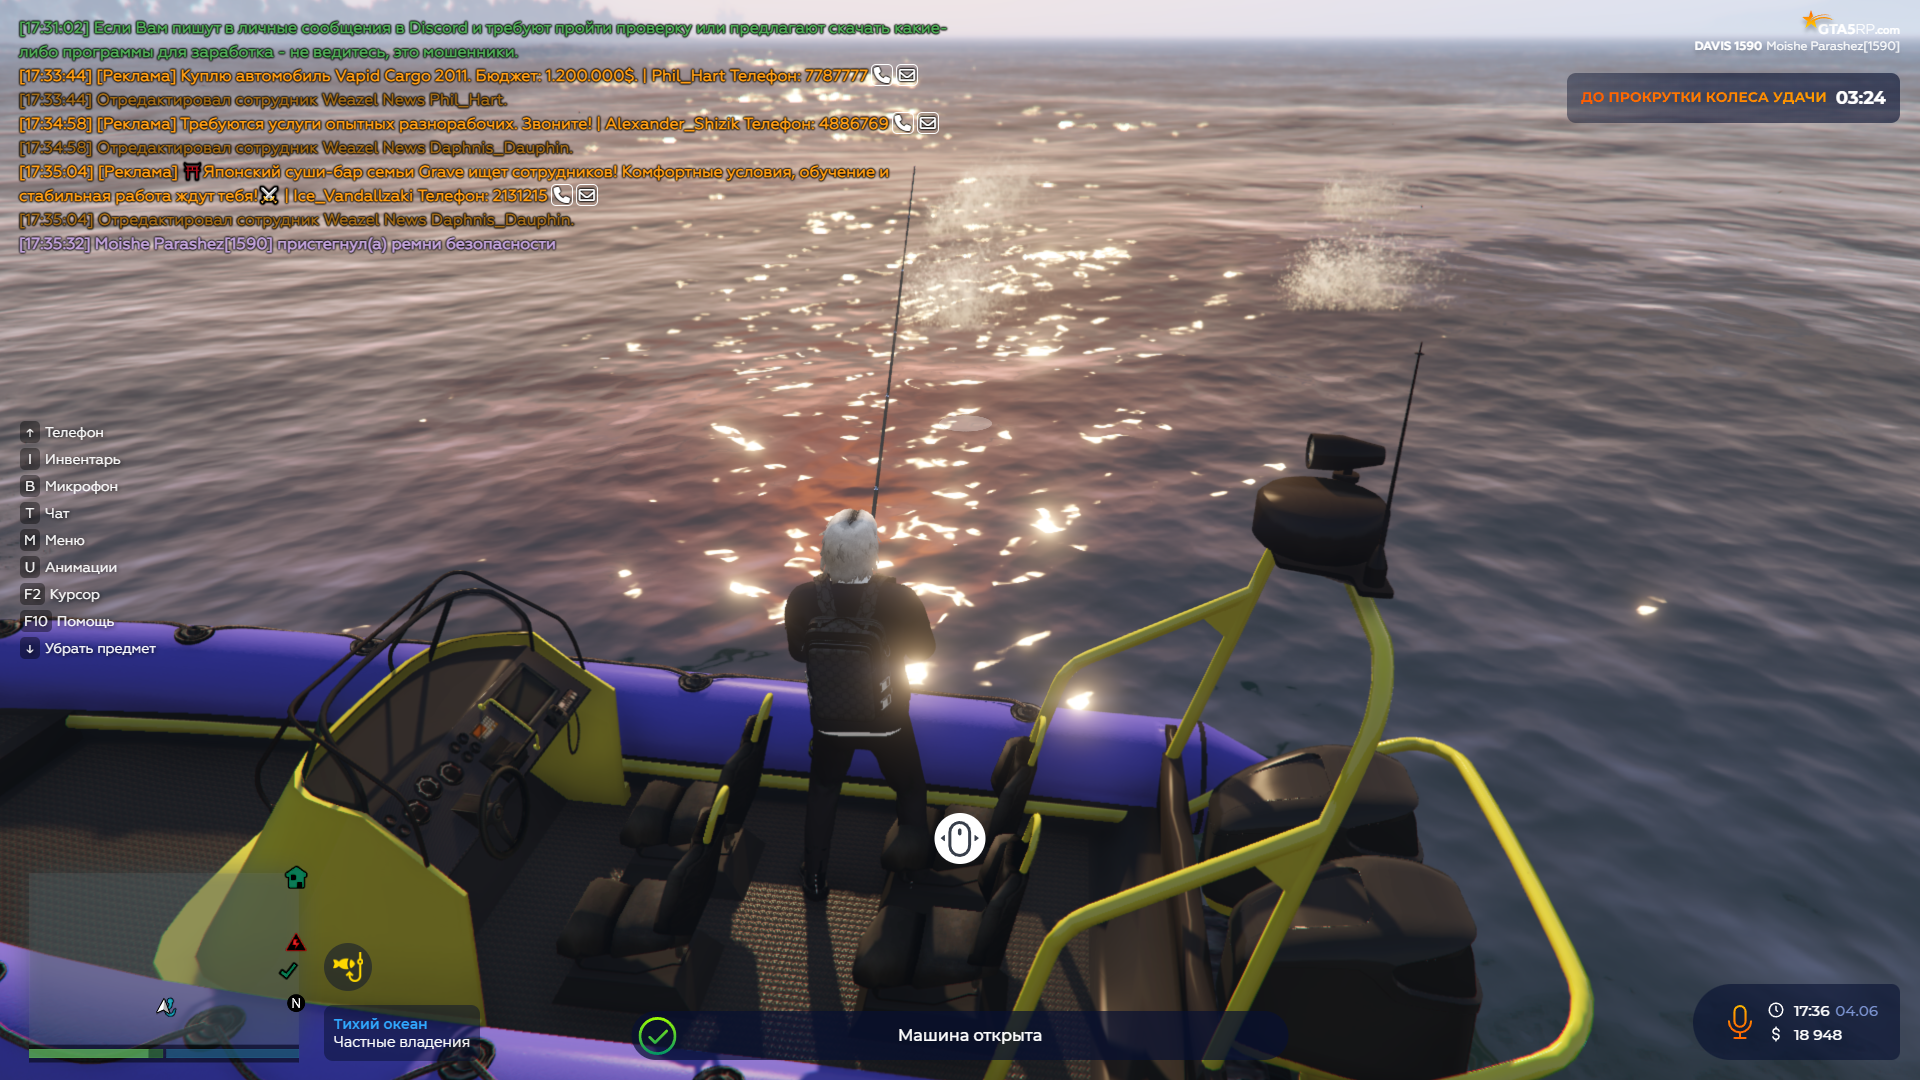circle: (942, 415, 992, 433)
